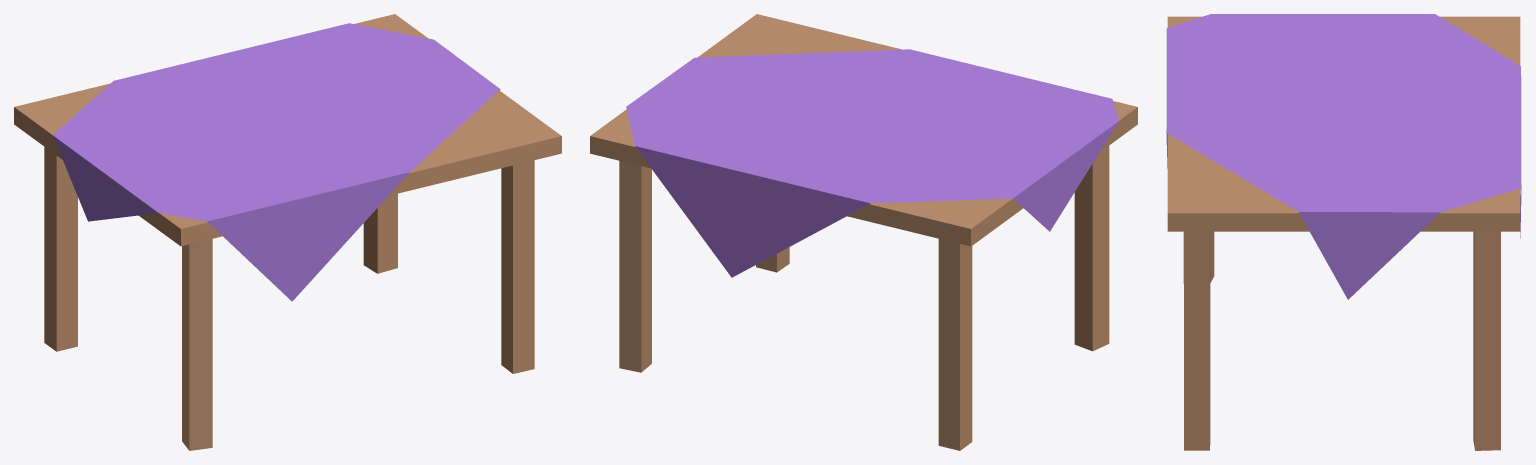
File: 桌子和桌布.fbx
3 renders of one model, left to right at view 1: azimuth 30°, elevation 25°; view 2: azimuth 150°, elevation 25°; view 3: azimuth 270°, elevation 25°, orthographic. The views are drawn at different scales.
Parts seen in each view (by area): view 1: Plane, Cube.004; view 2: Plane, Cube.004; view 3: Plane, Cube.004.
Part boxes in pixels (left/top/right/bottom): Plane: left=53, top=23, right=500, bottom=301; Cube.004: left=14, top=14, right=561, bottom=450; Plane: left=626, top=49, right=1119, bottom=277; Cube.004: left=590, top=14, right=1137, bottom=450; Plane: left=1166, top=14, right=1521, bottom=299; Cube.004: left=1167, top=16, right=1520, bottom=450.
Size of the model in its own units: 77.44 by 45.22 by 58.43.
